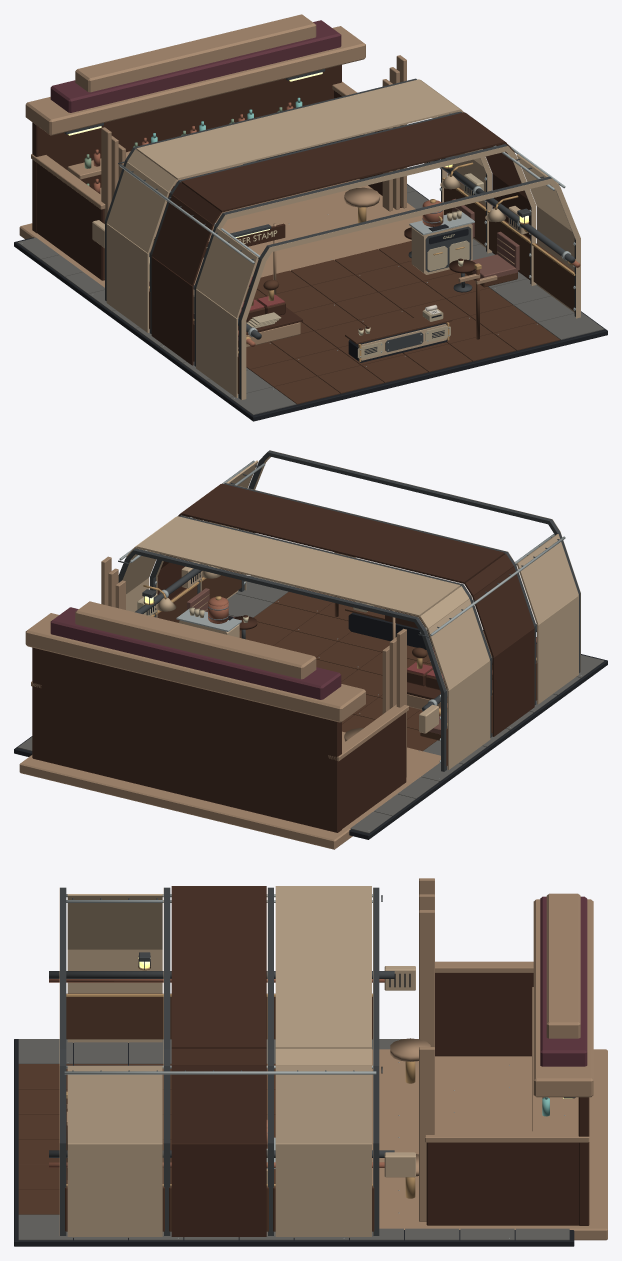
The model's file is dunemoor-bar.glb.
3 renders of one model, top to bottom at view 1: azimuth 30°, elevation 25°; view 2: azimuth 150°, elevation 25°; view 3: azimuth 270°, elevation 25°, orthographic. The views are drawn at different scales.
Parts seen in each view (by area): view 1: dunemoor-bar; view 2: dunemoor-bar; view 3: dunemoor-bar.
Part boxes in pixels (left/top/right/bottom): dunemoor-bar: left=14, top=14, right=607, bottom=421; dunemoor-bar: left=14, top=450, right=607, bottom=849; dunemoor-bar: left=14, top=878, right=607, bottom=1246.
Size of the model in its own units: 17.08 by 7.57 by 21.15.
Materials: 24 (21 with a texture image).
